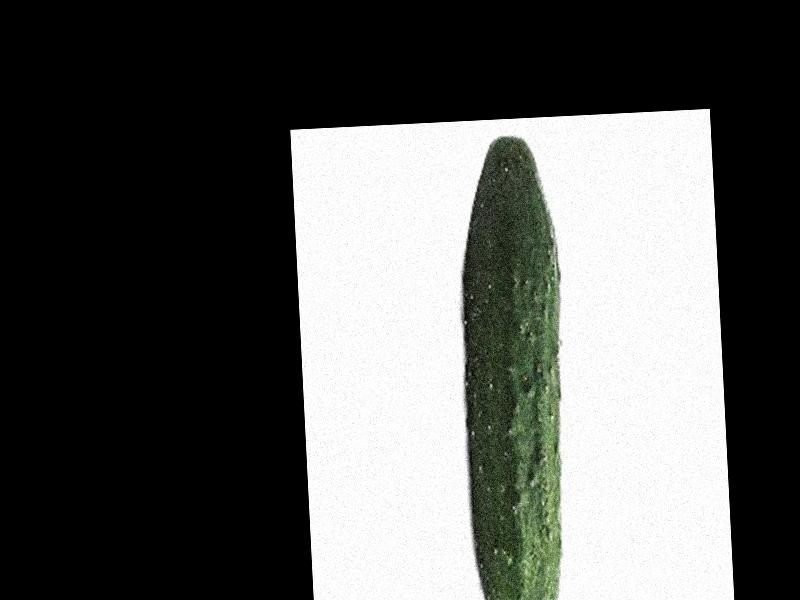Cucumber: (453, 133, 577, 600)
